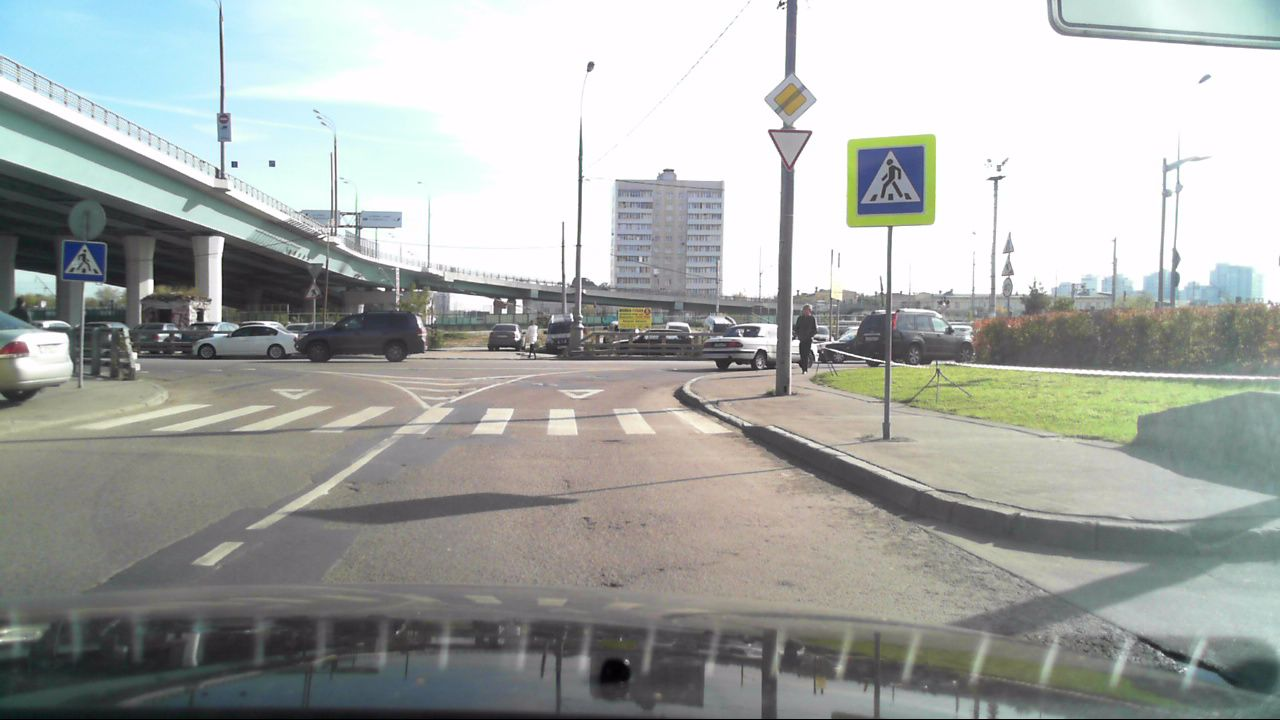main road: (763, 73, 816, 129)
